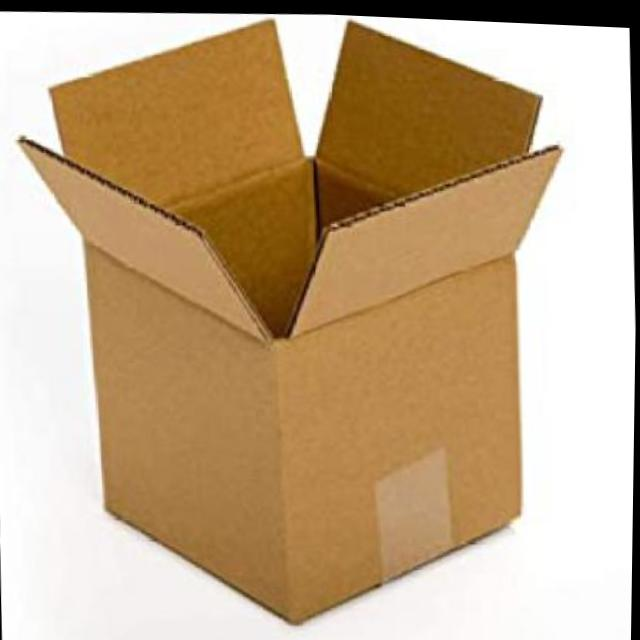box: (4, 0, 585, 640)
